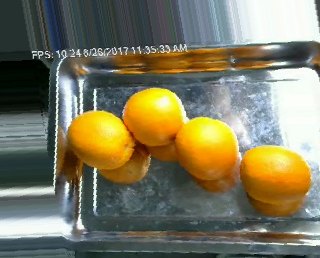Orange: (239, 144, 312, 202), (67, 109, 135, 170), (176, 115, 239, 180), (121, 86, 184, 144)
